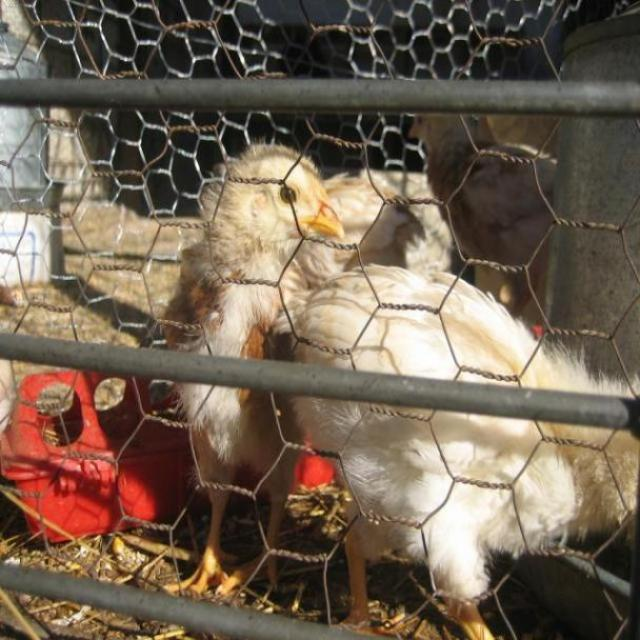Chicken: (271, 263, 640, 639), (160, 156, 382, 579)
